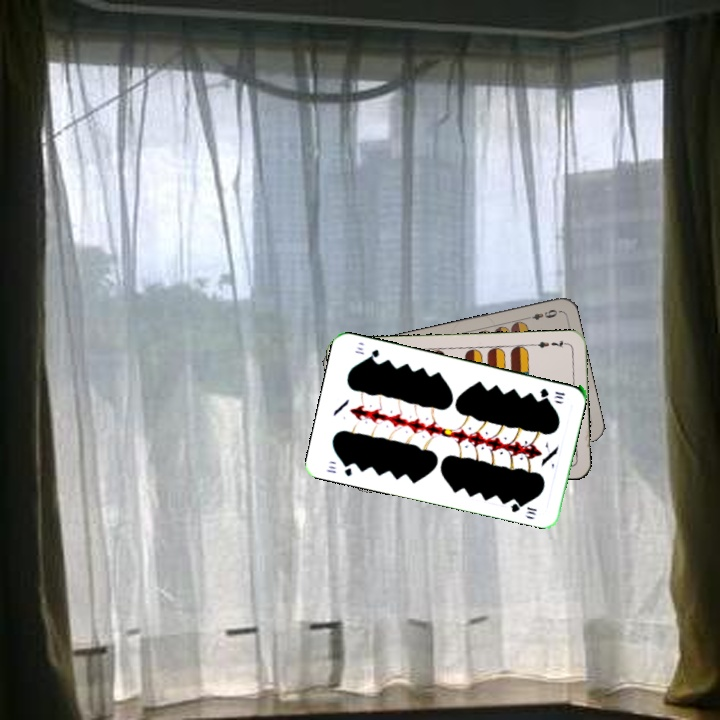E7: (529, 336, 570, 351)
E9: (521, 305, 560, 322)
G10: (323, 458, 354, 479), (536, 384, 567, 402)
